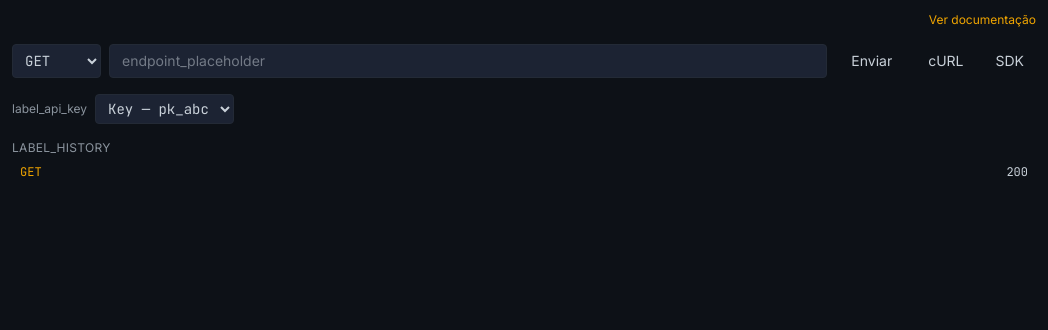
Test case: PlaygroundPanel — envio e resposta › exibe badge de status HTTP 200
The image size is (1048, 330).
Expected: the dropdown with test id "apikey-select" is shown, [95,94,234,124]
Click the button with test id "btn-send": (872, 61) [835,45,908,77]
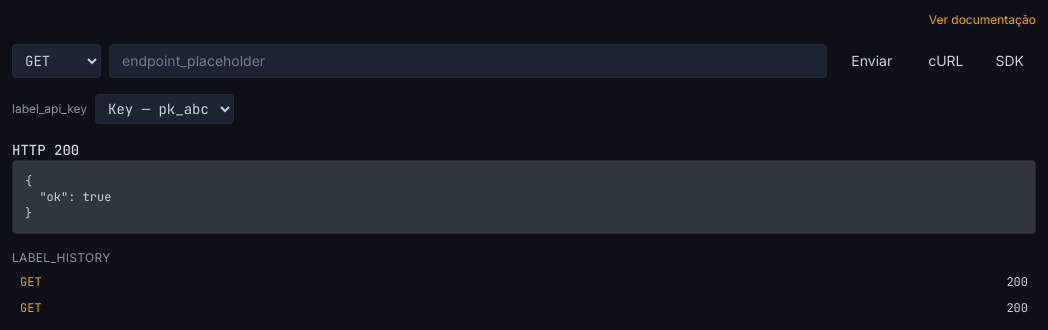
Expected: the text with test id "response-status" shows "200", [12,141,79,159]
